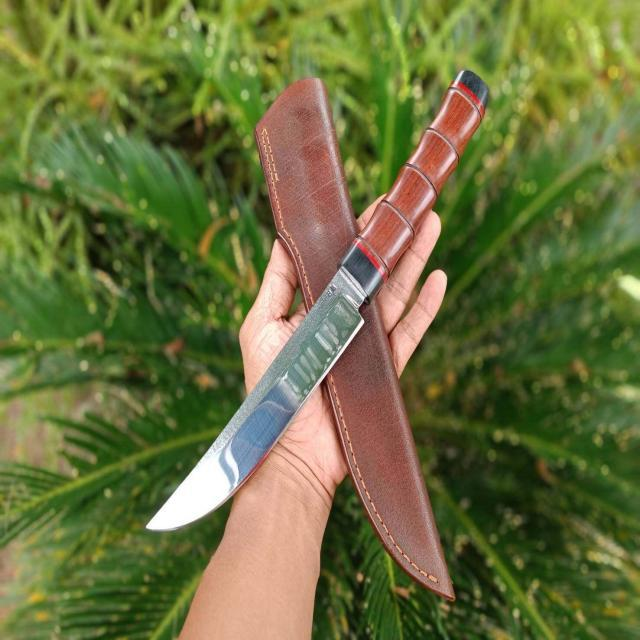short sword: (138, 61, 492, 554)
